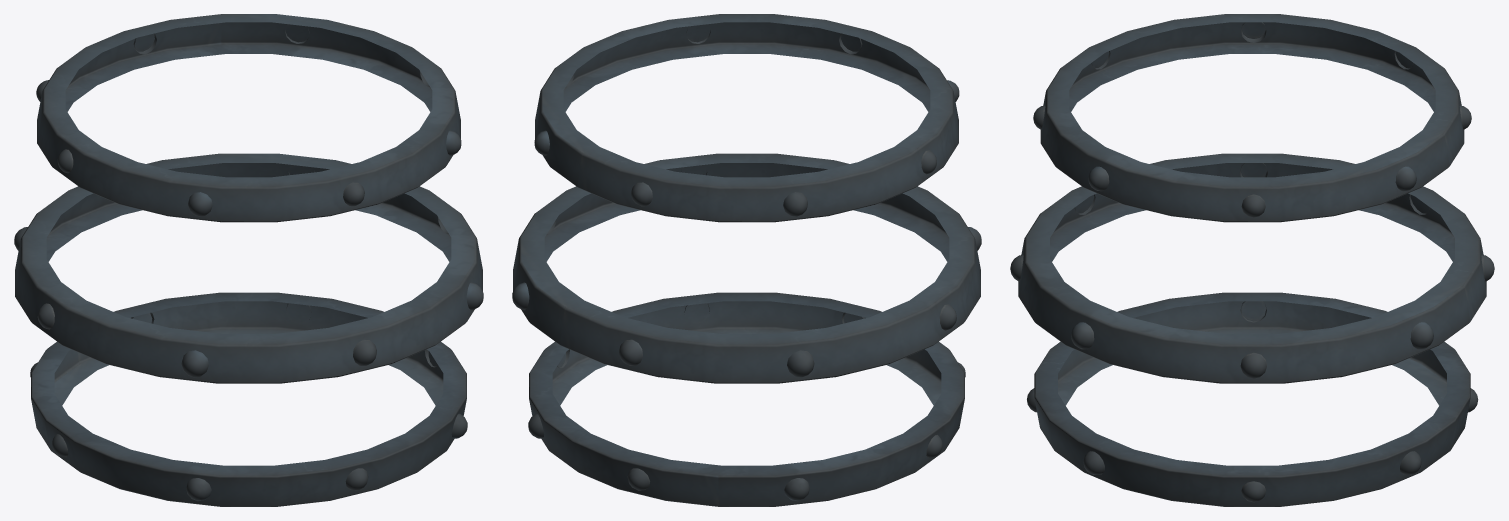
Rendered from oak_metal_1.fbx.
3 renders of one model, left to right at view 1: azimuth 30°, elevation 25°; view 2: azimuth 150°, elevation 25°; view 3: azimuth 270°, elevation 25°, orthographic.
Parts seen in each view (by area): view 1: Cylinder.106; view 2: Cylinder.106; view 3: Cylinder.106.
Part boxes in pixels (<box>): Cylinder.106: <box>14,14,483,506</box>; Cylinder.106: <box>512,14,981,506</box>; Cylinder.106: <box>1010,14,1494,506</box>.
Size of the model in its own units: 1.49 by 1.09 by 1.49.
